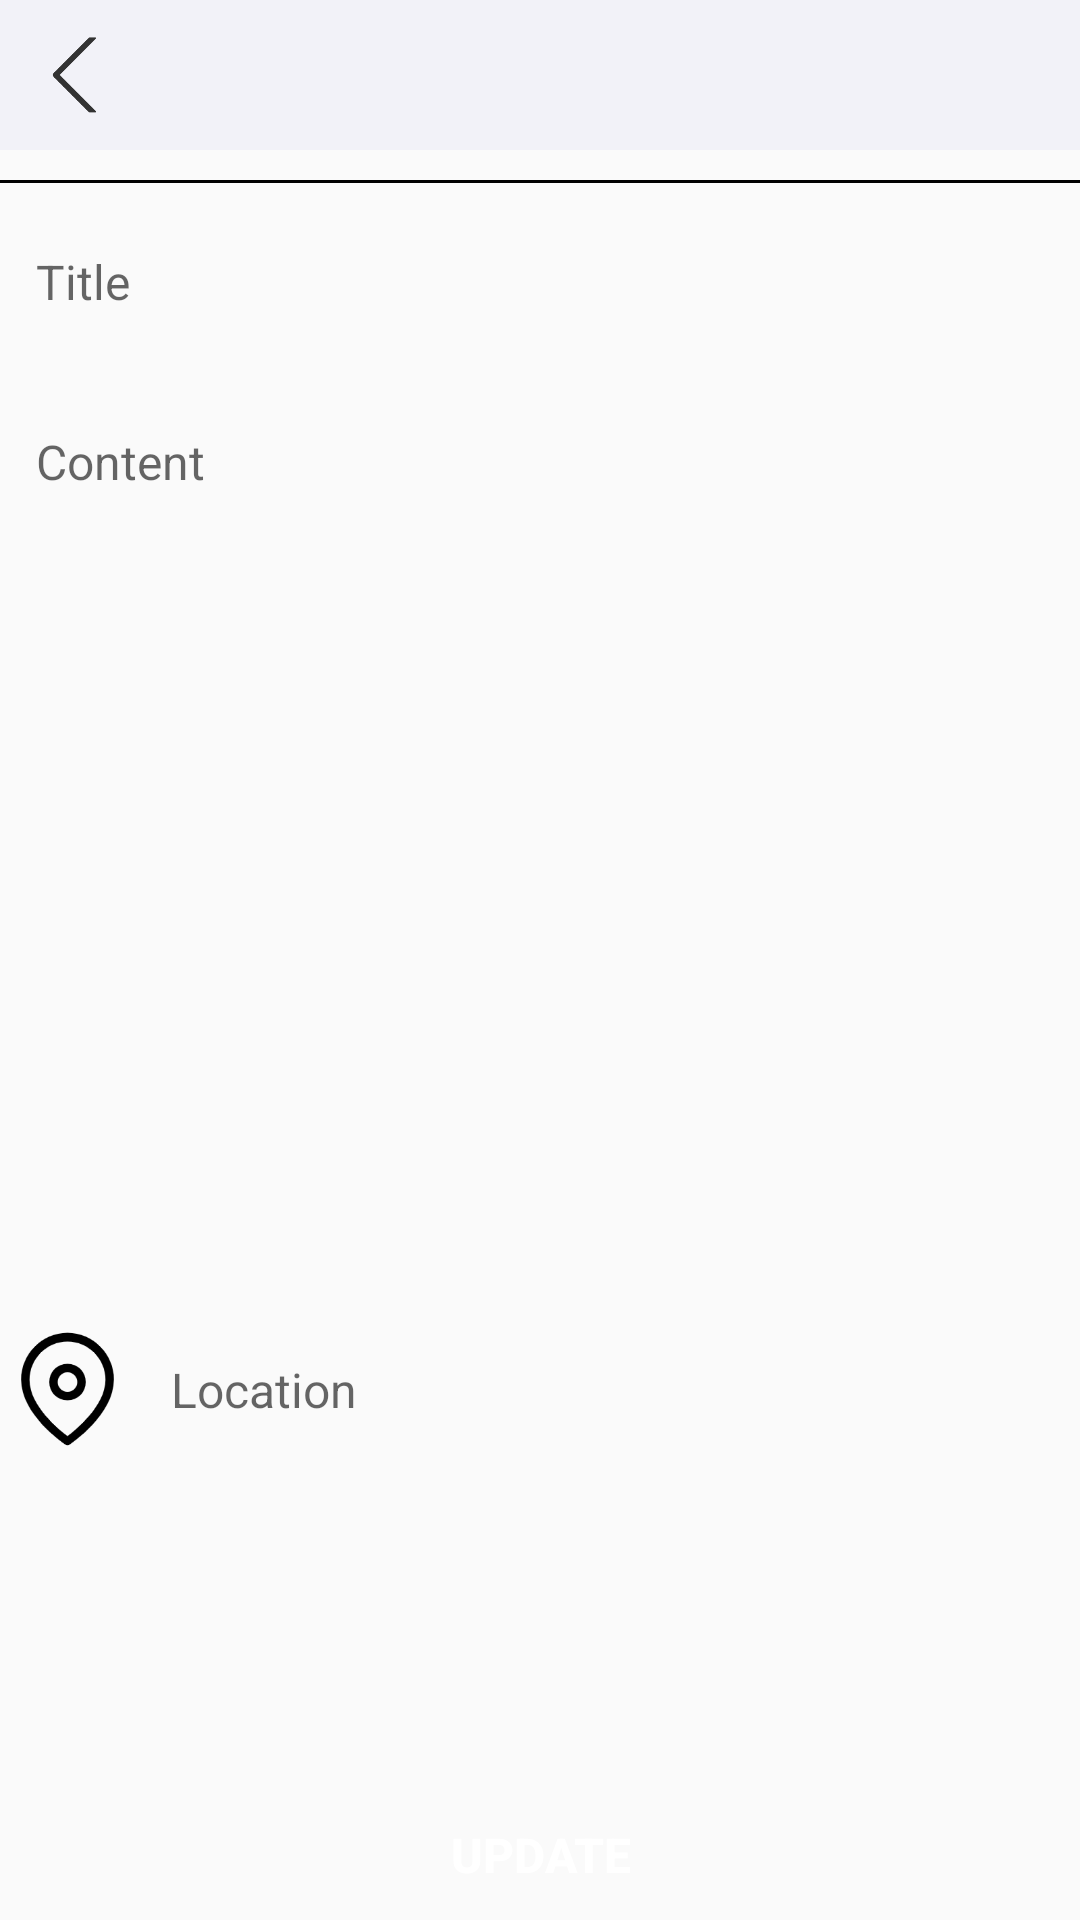

Named icons in this screenshot (1080×1920) and their bounding boxes, (x1, y1, x2, y2):
back: (53, 37, 96, 113)
